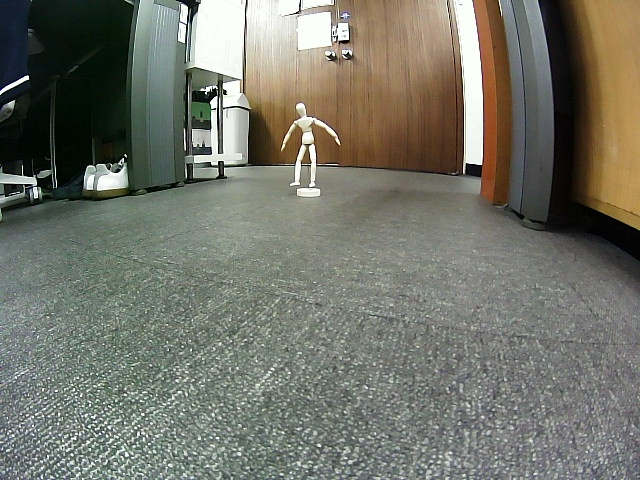person: (281, 102, 341, 187)
